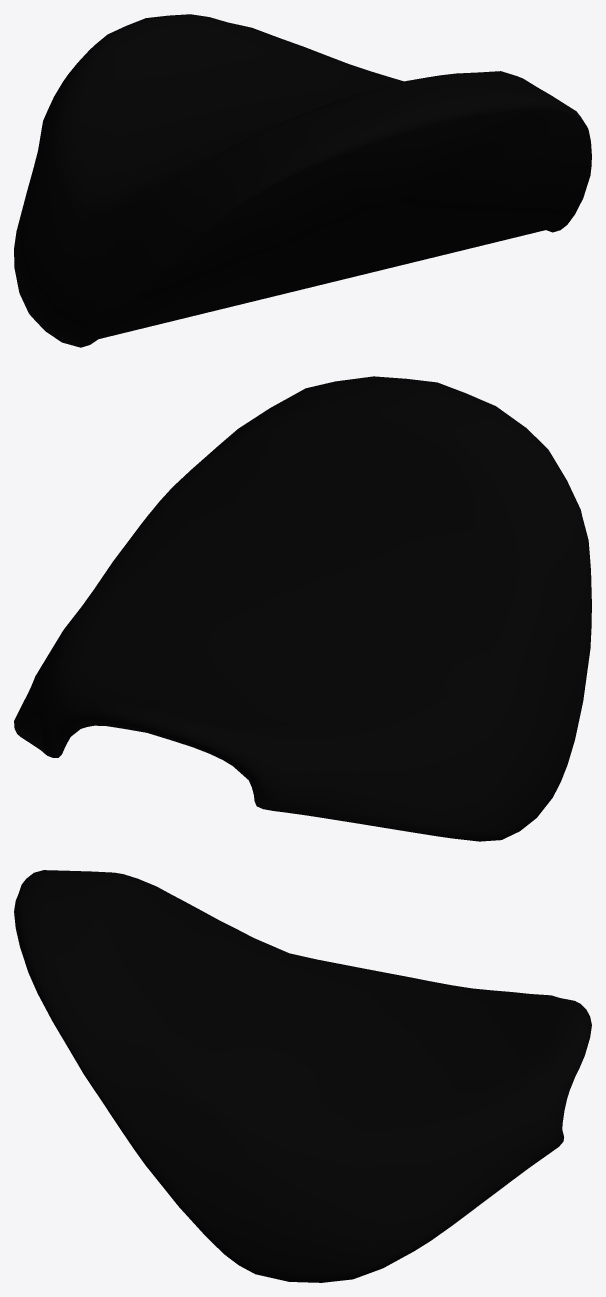
The model's file is Seat_STOCK_1K.glb.
3 views of the same model, one above another, from view 1: azimuth 30°, elevation 25°; view 2: azimuth 150°, elevation 25°; view 3: azimuth 270°, elevation 25° (orthographic). The views are drawn at different scales.
Parts seen in each view (by area): view 1: Seat_STOCK_1K; view 2: Seat_STOCK_1K; view 3: Seat_STOCK_1K.
Boxes of the visible parts, x1,y1,x2,y2 form: Seat_STOCK_1K: [14, 14, 591, 347]; Seat_STOCK_1K: [14, 376, 591, 841]; Seat_STOCK_1K: [14, 870, 591, 1282].
Size of the model in its own units: 0.4249 by 0.2334 by 0.4525.
Materials: 1 (1 with a texture image).
